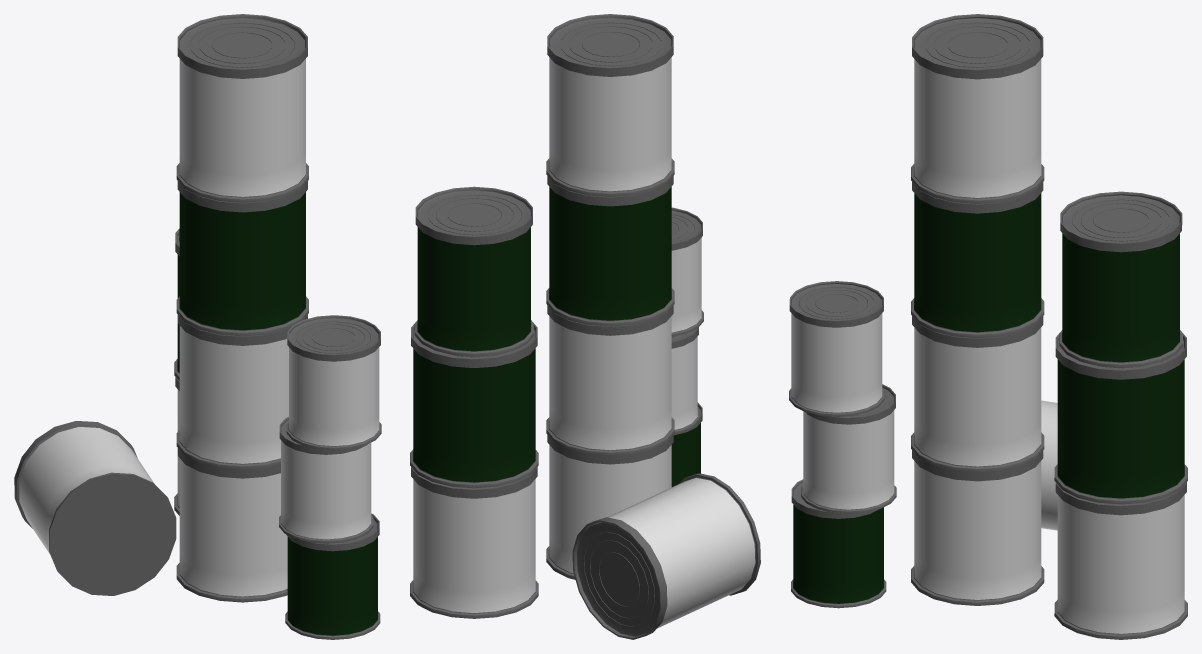
File: SM_Cans1.fbx
3 views of the same model, side by side, from view 1: azimuth 30°, elevation 25°; view 2: azimuth 150°, elevation 25°; view 3: azimuth 270°, elevation 25° (orthographic). The views are drawn at different scales.
Parts seen in each view (by area): view 1: Conserves1; view 2: Conserves1; view 3: Conserves1.
Part boxes in pixels (x1,y1,x2,y2): Conserves1: (14, 14, 381, 639); Conserves1: (410, 14, 760, 639); Conserves1: (789, 14, 1187, 639).
Size of the model in its own units: 18.43 by 31.3 by 20.99.
